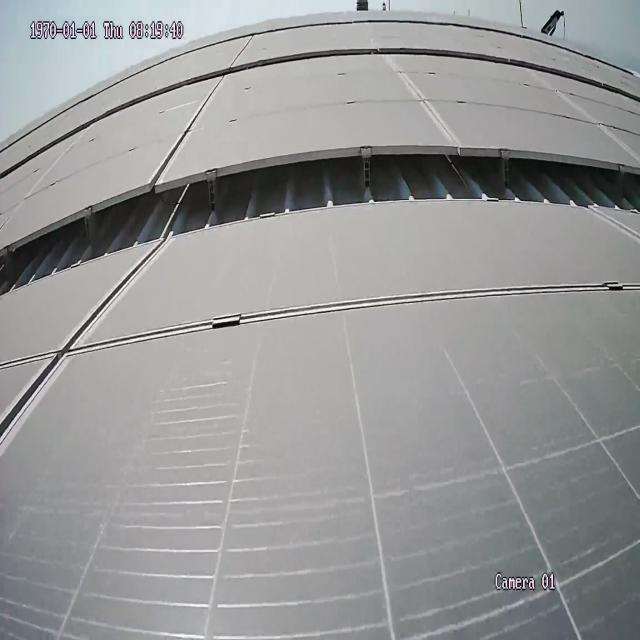interior panel: (0, 250, 640, 457), (149, 83, 227, 178), (378, 61, 456, 135)
outher panel: (3, 152, 640, 306)
